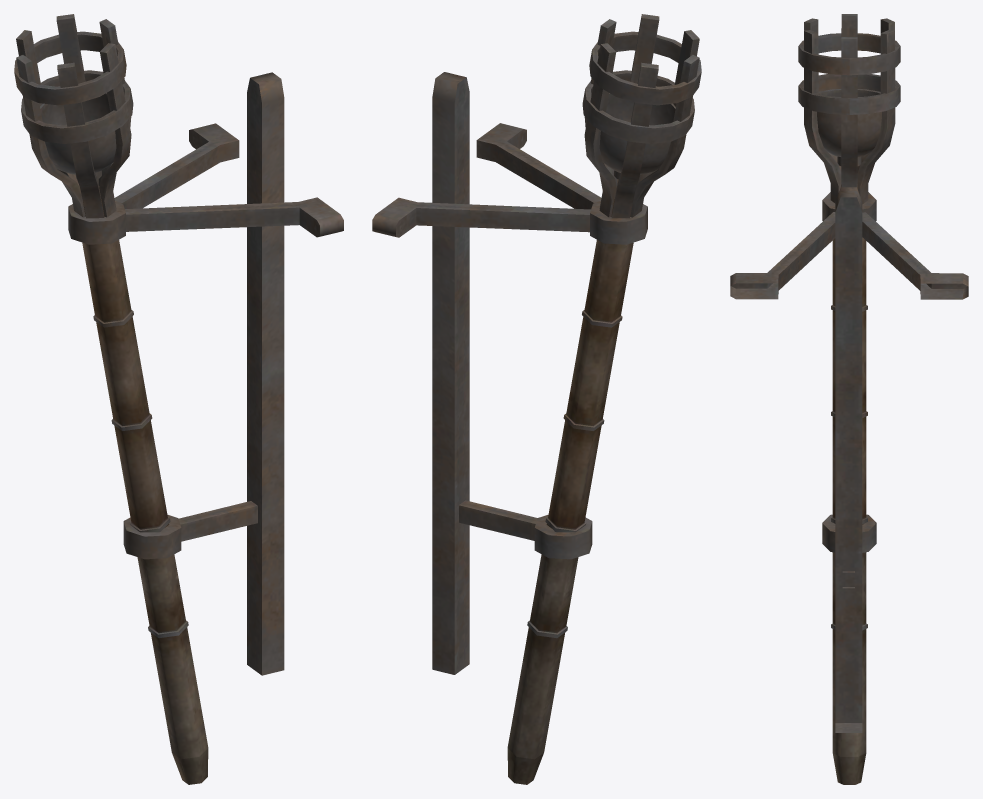
File: Torch.FBX
3 views of the same model, side by side, from view 1: azimuth 30°, elevation 25°; view 2: azimuth 150°, elevation 25°; view 3: azimuth 270°, elevation 25° (orthographic). The views are drawn at different scales.
Visible parts, largest first — view 1: torch03; view 2: torch03; view 3: torch03.
Boxes of the visible parts, x1,y1,x2,y2 form: torch03: (14,14,343,784); torch03: (372,14,701,784); torch03: (730,14,968,784).
Bounding box in the file's own units: 52.61 × 152 × 46.37.
